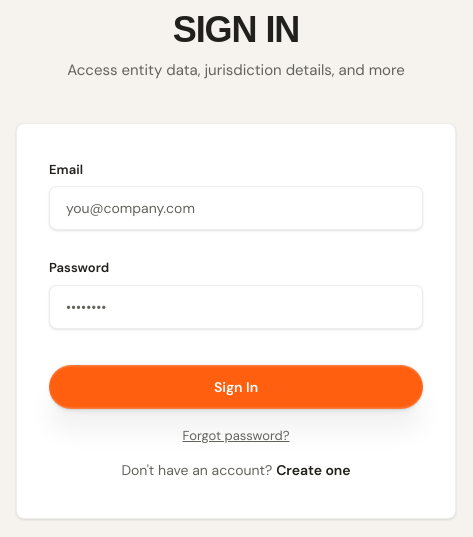
Test: LoginPage › shows loading state during submit
The image size is (473, 537).
Type "test@example.com" into the field labelled "Email" at (236, 208), box [49,186,423,230]
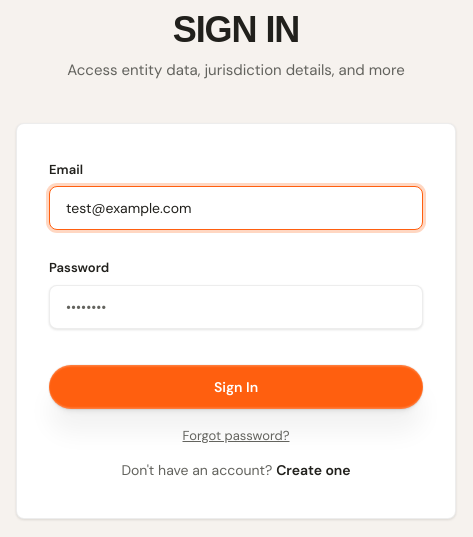
Type "password123" into the password field labelled "Password" at (236, 307), box [49,285,423,329]
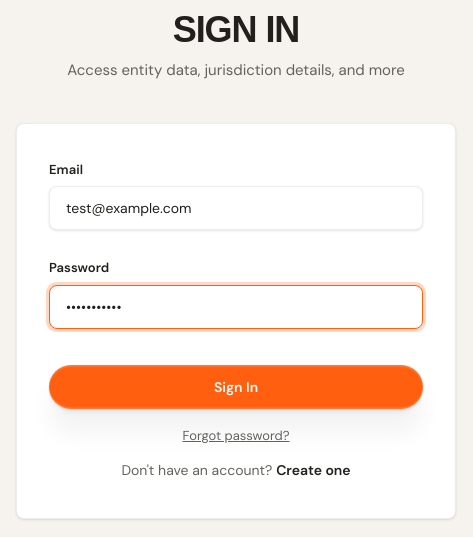
Click the button "Sign In" at (236, 387), box [49,365,423,409]
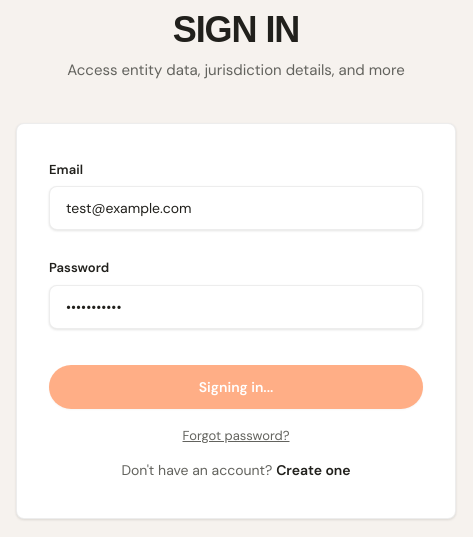
Expected: the button "Signing in..." is disabled, [49,365,423,409]
